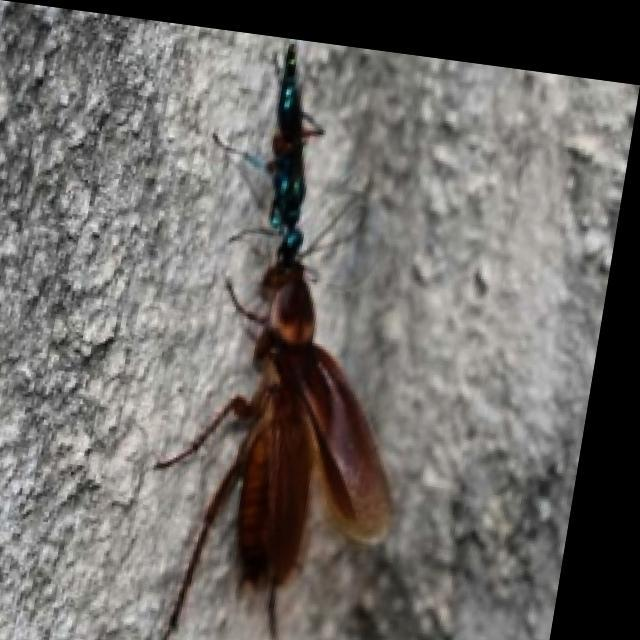cockroach: (150, 233, 417, 636)
